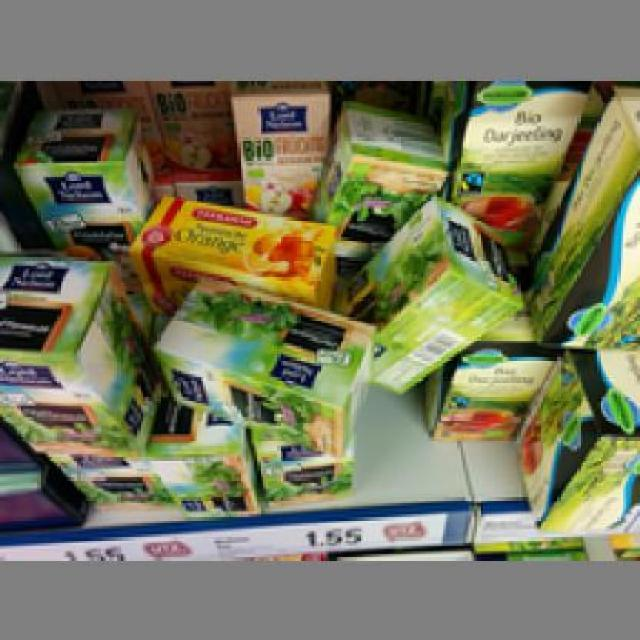Tea: (140, 274, 374, 446), (334, 194, 520, 397), (0, 252, 157, 452), (123, 188, 337, 308), (8, 103, 152, 240), (306, 97, 440, 240)
